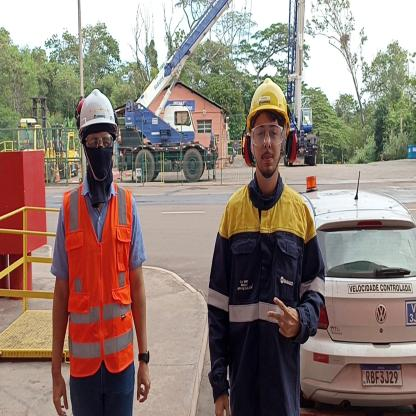Balaclava: (82, 130, 118, 196)
C_eletrica: (206, 173, 328, 415)
Capacete: (245, 76, 289, 119), (75, 86, 119, 127)
colete: (63, 190, 139, 370)
